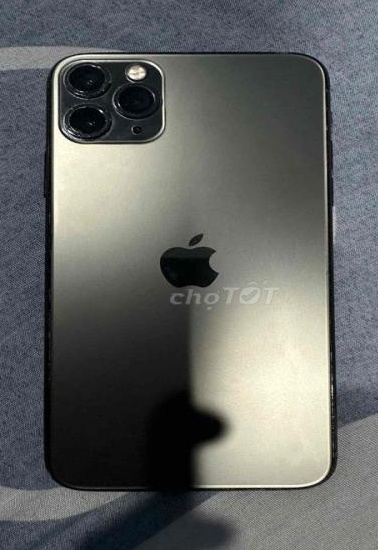scratch: (57, 57, 166, 144)
